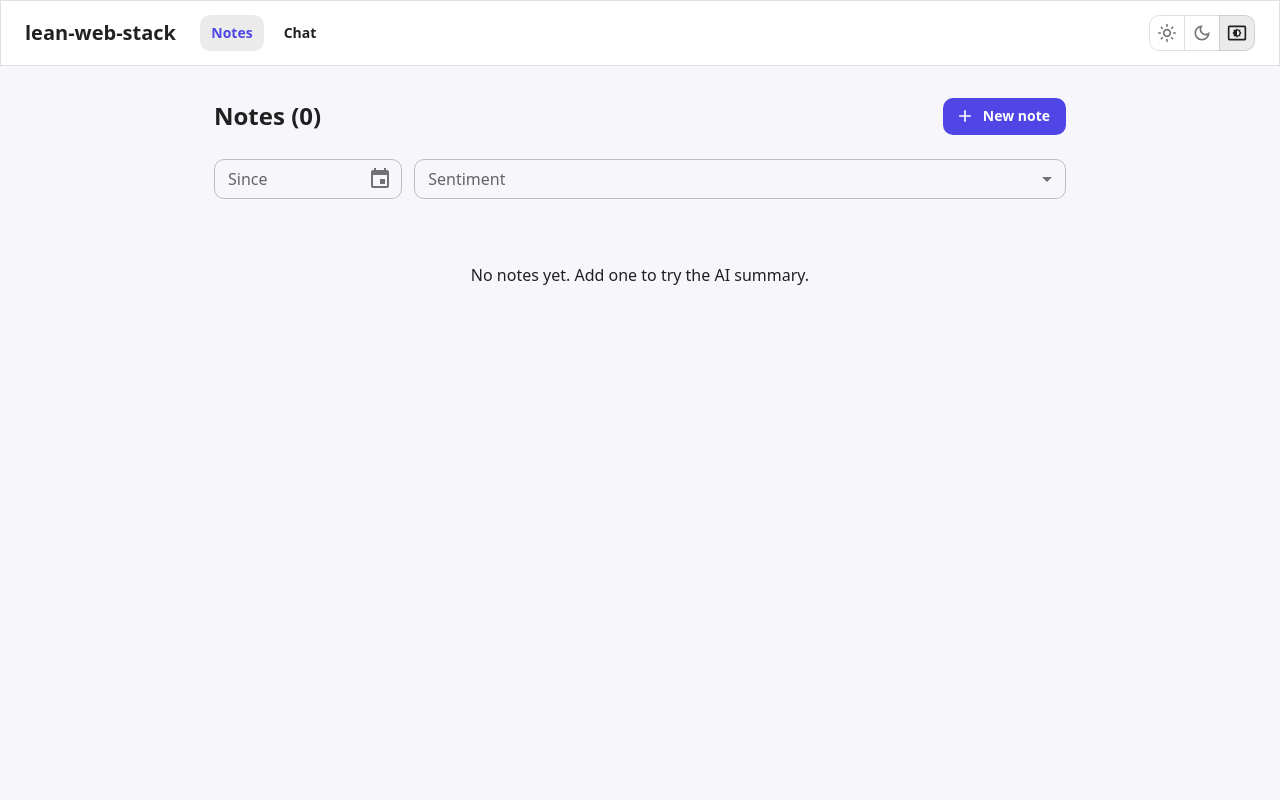
new note dialog shows Zod errors and does not post
This screenshot has width=1280, height=800.
Click the button "New note".
click(1004, 116)  # box [943,98,1066,134]
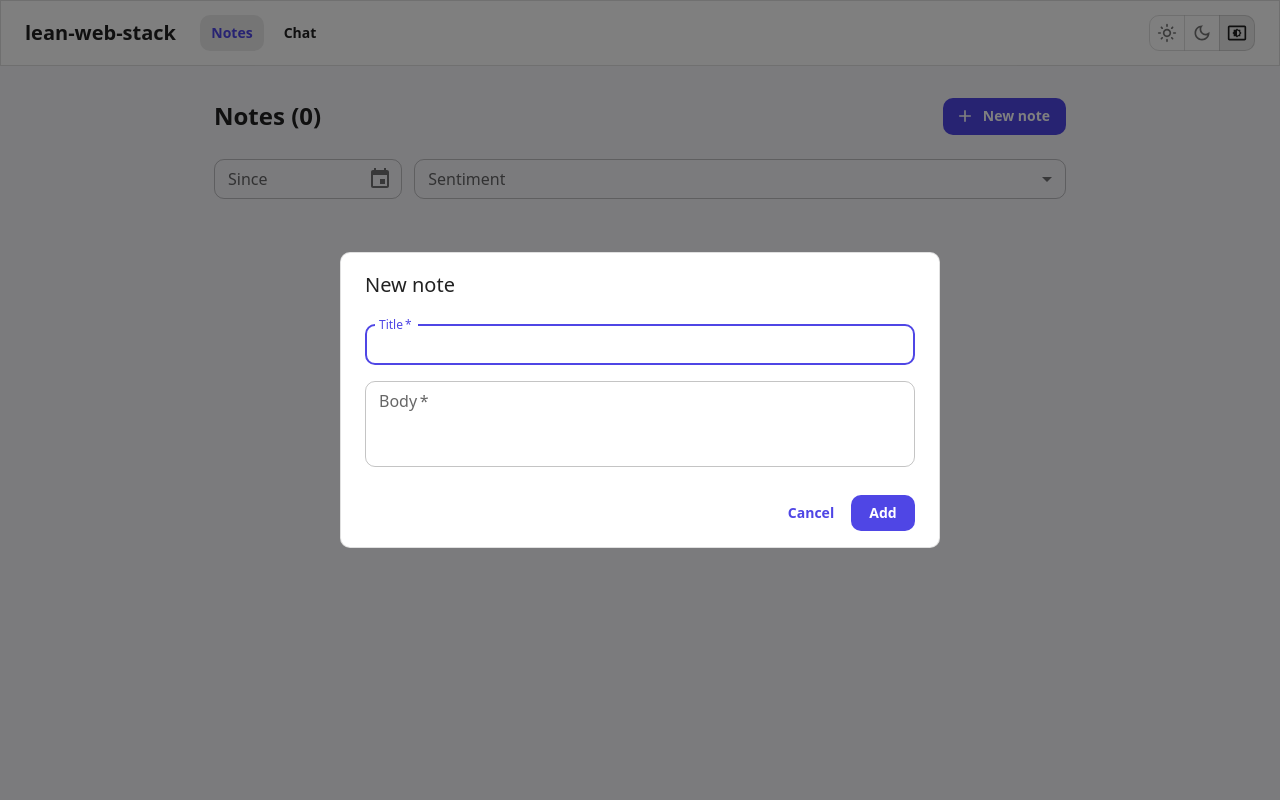
Click the button "Add".
click(883, 513)  # box [851,495,915,531]
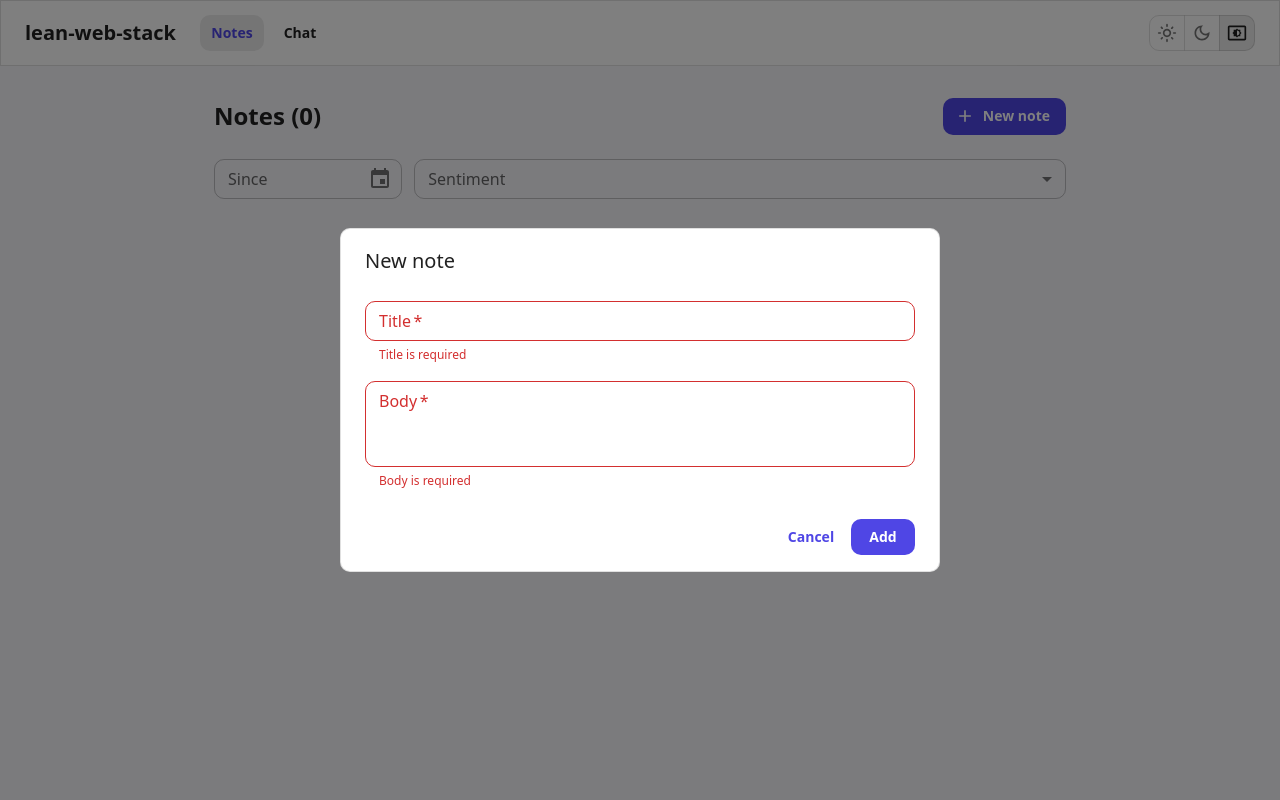
Now the text "Title is required" is shown, box [379,346,466,363]
Now the text "Body is required" is shown, box [379,472,471,489]
